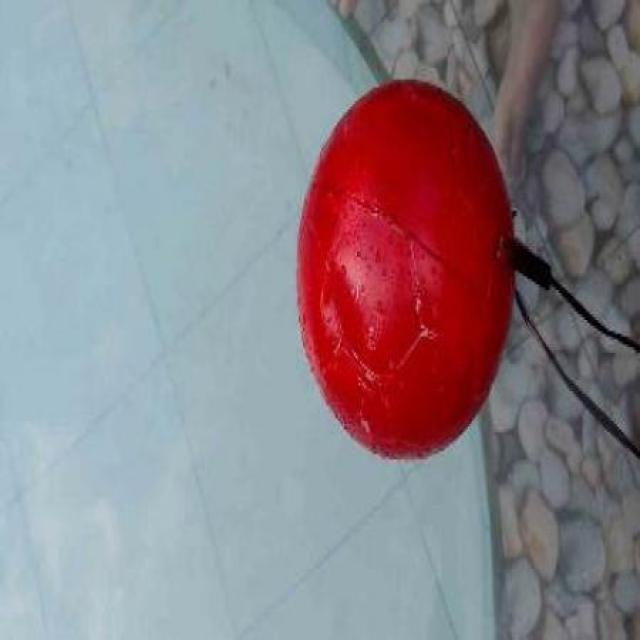buoy: (296, 77, 516, 459)
